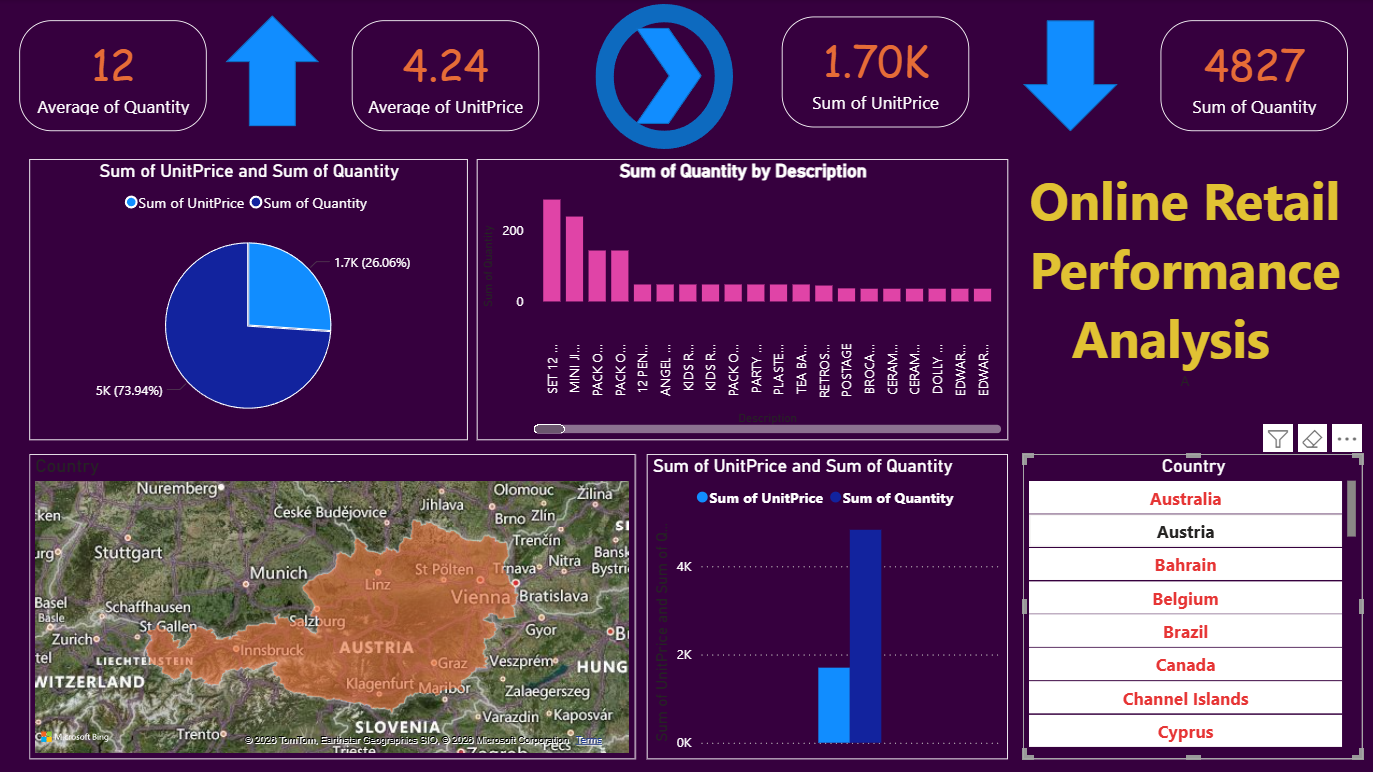

This screenshot's page, from the dashboard's own definition file:
{"tool":"powerbi","page":{"name":"Page 1","canvas":[1280,720],"ordinal":0},"visuals":[{"type":"card","fields":{"Values":["Sum(online_retail.Quantity)"]},"box":[1081.4,19.8,174.4,103.5],"z":0},{"type":"pieChart","fields":{"Y":["Sum(online_retail.UnitPrice)","Sum(online_retail.Quantity)"]},"box":[29.1,148.8,408.1,261.6],"z":1000},{"type":"card","fields":{"Values":["Avg(online_retail.Quantity)"]},"box":[19.8,19.8,174.4,103.5],"z":2000},{"type":"card","fields":{"Values":["Avg(online_retail.UnitPrice)"]},"box":[329.1,19.8,174.4,103.5],"z":3000},{"type":"card","fields":{"Values":["Sum(online_retail.UnitPrice)"]},"box":[729.1,16.3,174.4,103.5],"z":4000},{"type":"shape","box":[211.6,15.1,87.2,103.5],"z":5000},{"type":"shape","box":[953.5,19.8,88.4,103.5],"z":6000},{"type":"shape","box":[555.8,4.7,127.9,134.9],"z":7000},{"type":"shape","box":[593,26.7,61.6,89.5],"z":8000},{"type":"clusteredColumnChart","fields":{"Category":["online_retail.Description"],"Y":["Sum(online_retail.Quantity)"]},"box":[445.4,148.8,494.2,261.6],"z":9000},{"type":"filledMap","fields":{"Category":["online_retail.Country"]},"box":[29.1,423.3,564,283.7],"z":10000},{"type":"clusteredColumnChart","fields":{"Y":["Sum(online_retail.UnitPrice)","Sum(online_retail.Quantity)"]},"box":[603.5,423.3,336,283.7],"z":11000},{"type":"listSlicer","fields":{"Values":["online_retail.Country"]},"box":[953.5,423.3,316.3,283.7],"z":12000},{"type":"textbox","box":[953.5,148.8,301.2,251.2],"z":13000}]}

Visuals, with their boxes in screenshot pixels (x1, y1, x2, y2), scaled from the page's 1280x720 canvas onto the 1373x772 screenshot:
card - Sum(online_retail.Quantity): [1160,21,1347,132]
pieChart - Sum(online_retail.UnitPrice) x Sum(online_retail.Quantity): [31,160,469,440]
card - Avg(online_retail.Quantity): [21,21,208,132]
card - Avg(online_retail.UnitPrice): [353,21,540,132]
card - Sum(online_retail.UnitPrice): [782,17,969,128]
shape: [227,16,321,127]
shape: [1023,21,1118,132]
shape: [596,5,733,150]
shape: [636,29,702,125]
clusteredColumnChart - online_retail.Description x Sum(online_retail.Quantity): [478,160,1008,440]
filledMap - online_retail.Country: [31,454,636,758]
clusteredColumnChart - Sum(online_retail.UnitPrice) x Sum(online_retail.Quantity): [647,454,1008,758]
listSlicer - online_retail.Country: [1023,454,1362,758]
textbox: [1023,160,1346,429]
